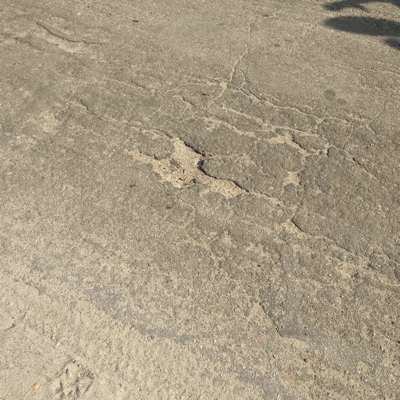pothole: (127, 134, 247, 202)
